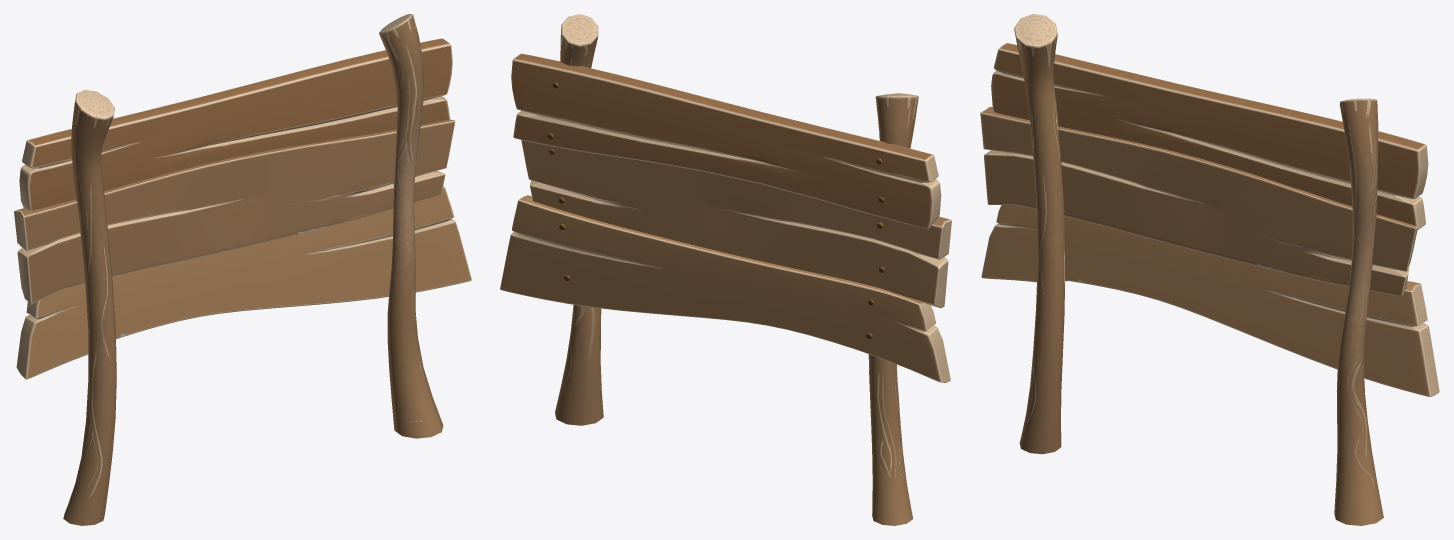
The model's file is message_board.glb.
3 renders of one model, left to right at view 1: azimuth 30°, elevation 25°; view 2: azimuth 150°, elevation 25°; view 3: azimuth 330°, elevation 25°, orthographic.
Parts seen in each view (by area): view 1: Planks, Poles; view 2: Planks, Poles; view 3: Planks, Poles.
Boxes of the visible parts, <box> form: Planks: <box>14,38,471,379</box>; Poles: <box>63,14,443,525</box>; Planks: <box>500,53,951,382</box>; Poles: <box>555,14,918,525</box>; Planks: <box>980,43,1439,396</box>; Poles: <box>1014,14,1383,525</box>.
Bounding box in the file's own units: 2.95 × 2.67 × 0.4062.
2 materials, 2 textured.
